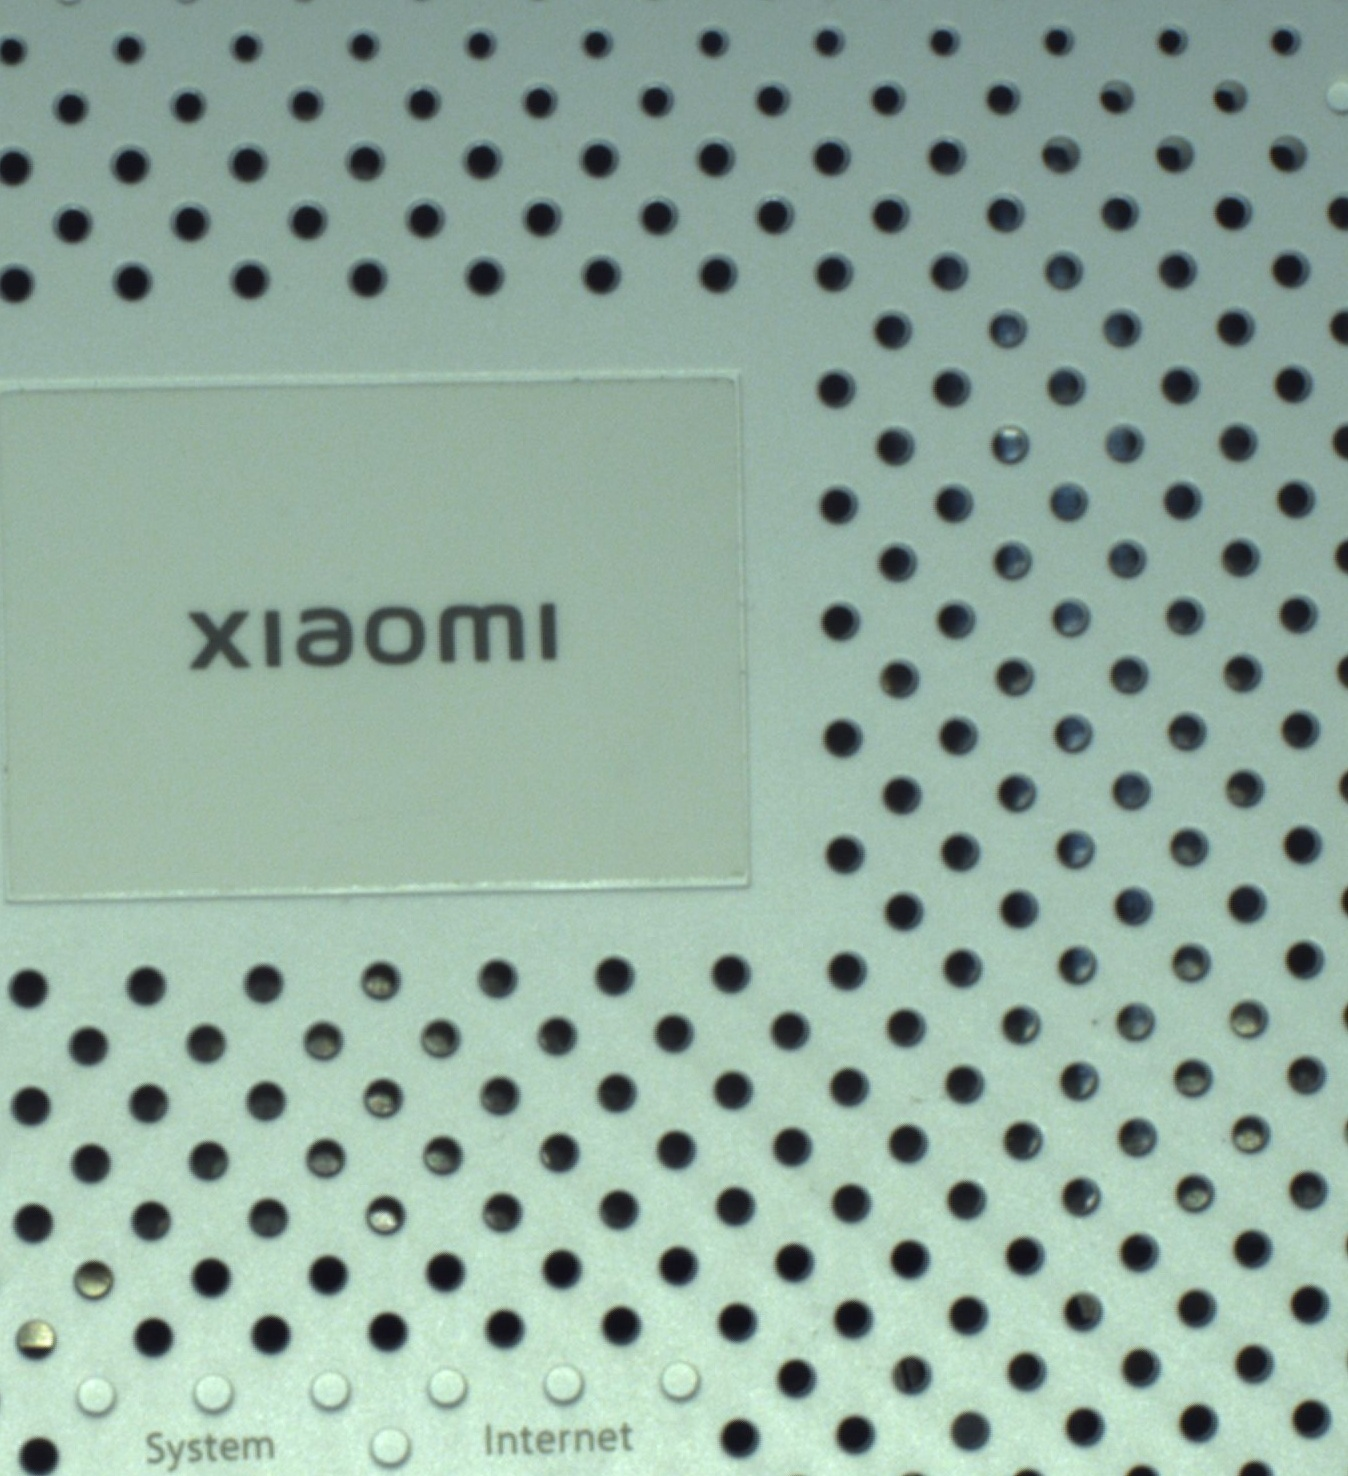MAB_OldUnicom: (168, 588, 572, 681)
